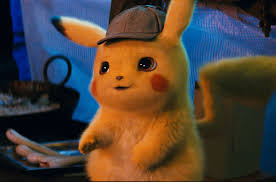pikachu: (47, 1, 276, 180)
